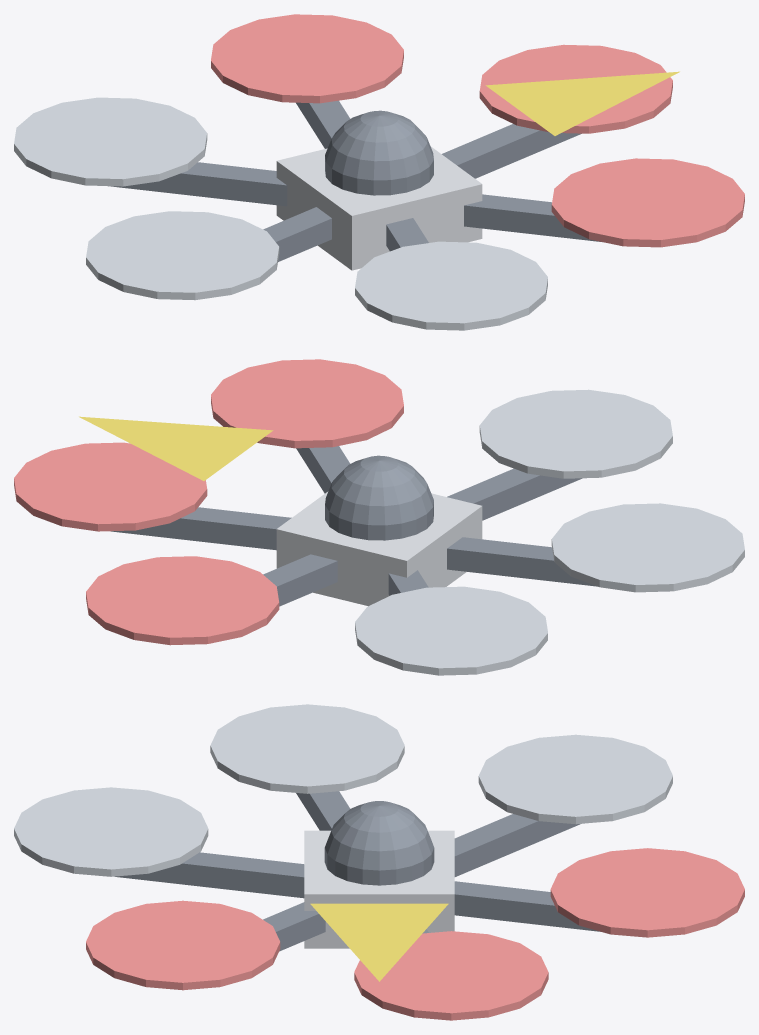
File: hexa.glb
The picture shows the model from 3 angles, top to bottom: view 1: azimuth 30°, elevation 25°; view 2: azimuth 150°, elevation 25°; view 3: azimuth 270°, elevation 25°; orthographic projection.
Bounding box in the file's own units: 31.58 × 5.3 × 31.58.
